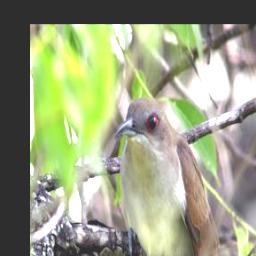Cuckoo: (114, 96, 224, 256)
